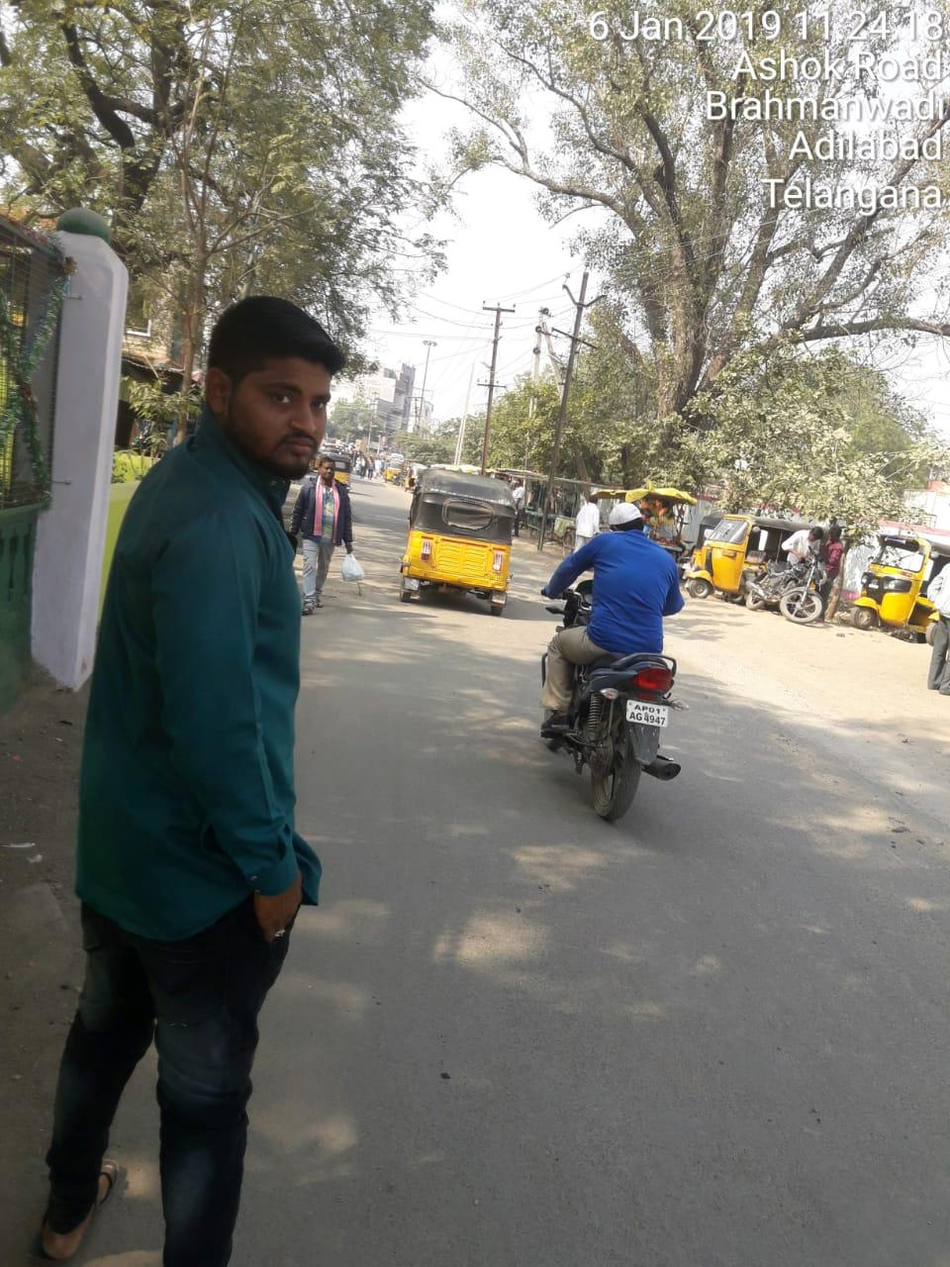plate: (619, 697, 676, 731)
